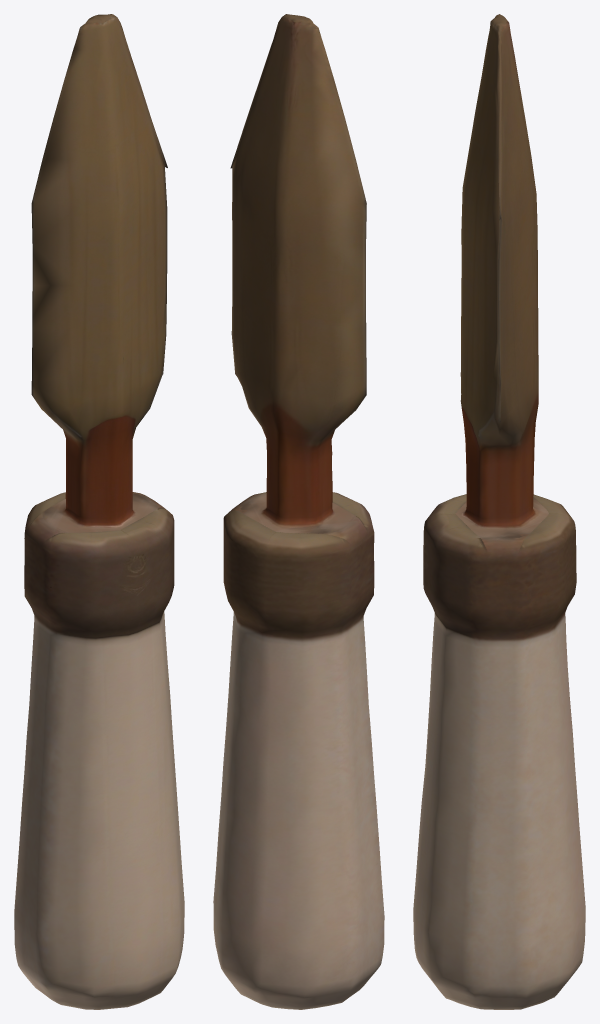
Rendered from chisel.glb.
3 renders of one model, left to right at view 1: azimuth 30°, elevation 25°; view 2: azimuth 150°, elevation 25°; view 3: azimuth 270°, elevation 25°, orthographic.
Size of the model in its own units: 0.3068 by 2 by 0.3194.
Materials: 1 (1 with a texture image).
